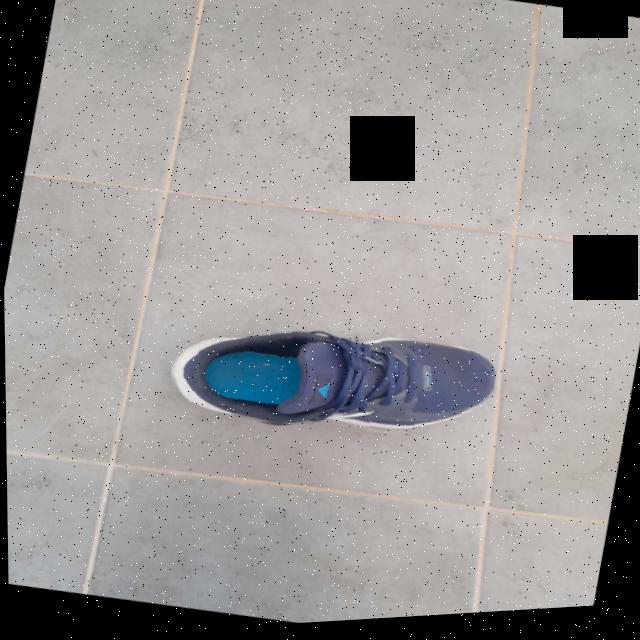shoe: (162, 297, 500, 474)
